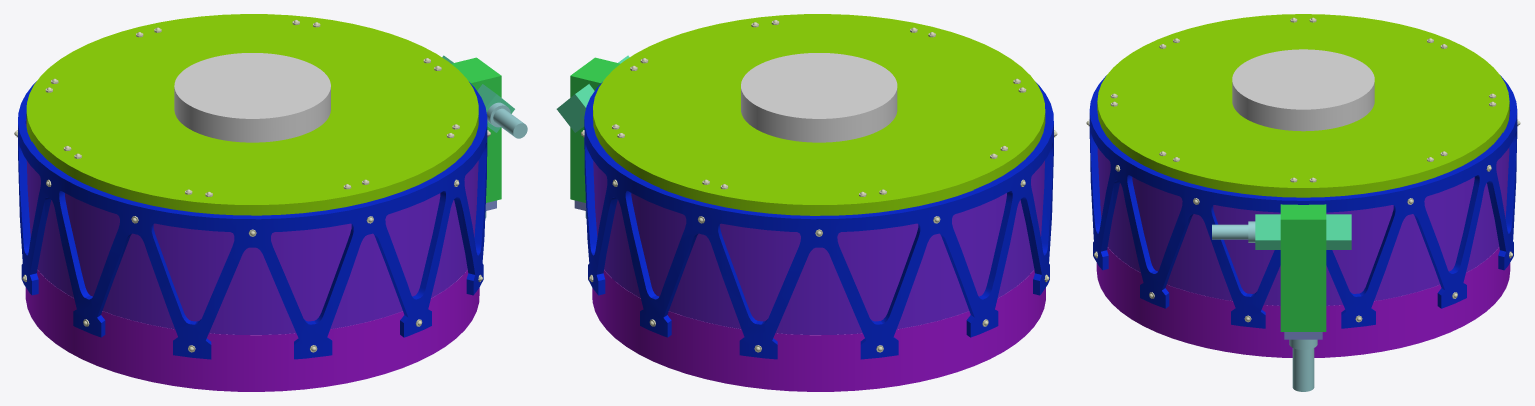
The picture shows the model from 3 angles, left to right: view 1: azimuth 30°, elevation 25°; view 2: azimuth 150°, elevation 25°; view 3: azimuth 270°, elevation 25°; orthographic projection. The views are drawn at different scales.
Parts seen in each view (by area): view 1: rit, rit_base; view 2: rit, rit_base; view 3: rit, rit_base.
Boxes of the visible parts, left/top/right/bottom form: rit: left=14, top=14, right=527, bottom=391; rit_base: left=174, top=53, right=330, bottom=142; rit: left=556, top=14, right=1057, bottom=391; rit_base: left=741, top=53, right=897, bottom=142; rit: left=1086, top=14, right=1520, bottom=391; rit_base: left=1232, top=49, right=1374, bottom=131.
Size of the model in its own units: 0.6532 by 0.3266 by 0.6089.
